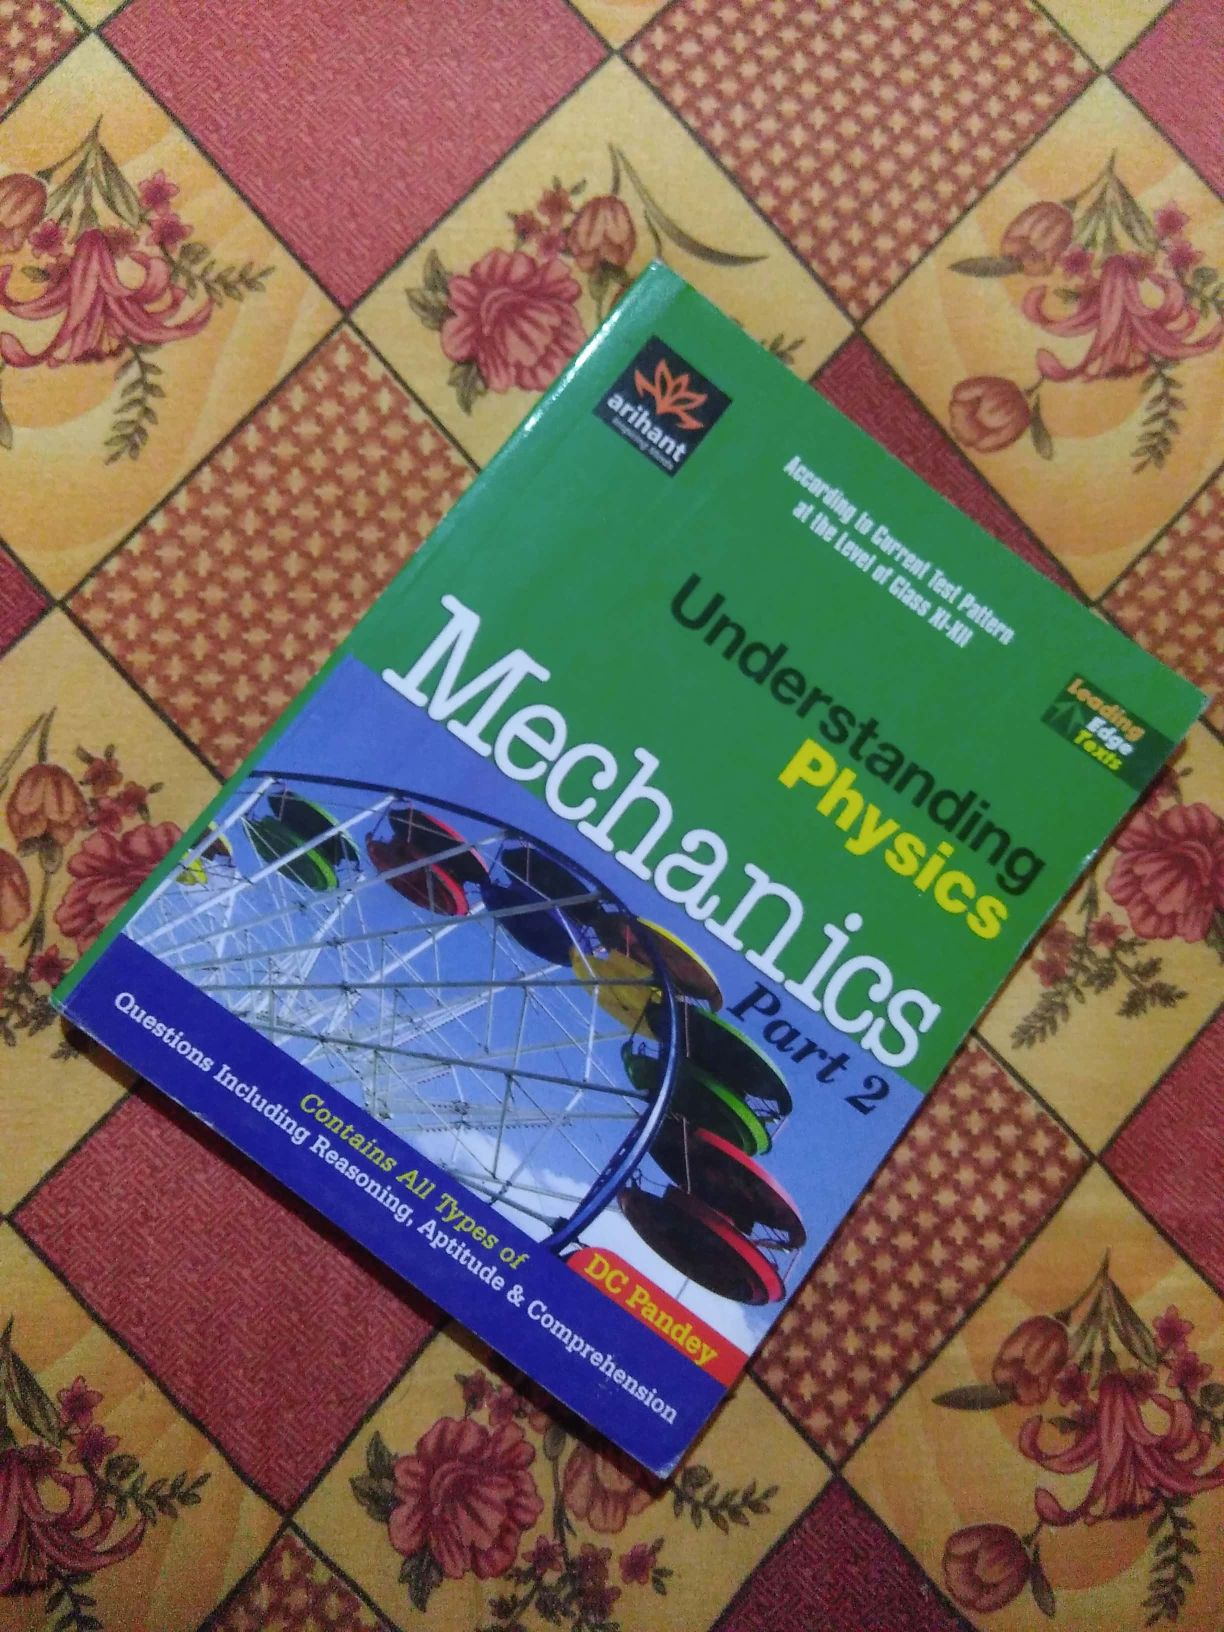mechanics: (163, 261, 1164, 1453)
